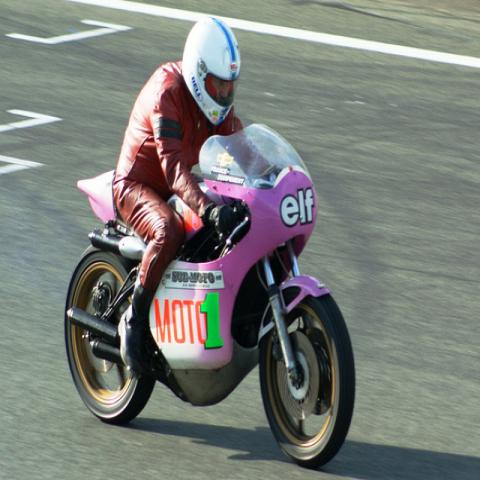motorcycle: (61, 122, 358, 467)
